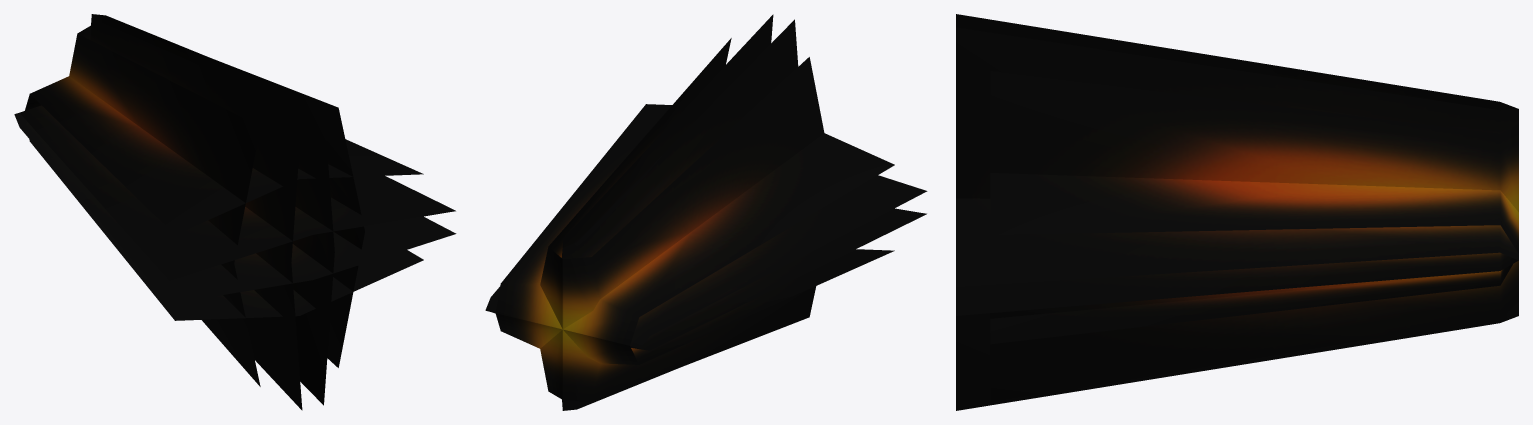
File: Bloom01.FBX
The picture shows the model from 3 angles, left to right: view 1: azimuth 30°, elevation 25°; view 2: azimuth 150°, elevation 25°; view 3: azimuth 270°, elevation 25°; orthographic projection. The views are drawn at different scales.
Visible parts, largest first — view 1: Bloom01; view 2: Bloom01; view 3: Bloom01.
Part boxes in pixels (bbox=[...]): Bloom01: bbox=[14, 14, 456, 410]; Bloom01: bbox=[485, 14, 927, 410]; Bloom01: bbox=[956, 14, 1518, 410].
Bounding box in the file's own units: 413 × 416 × 553.
